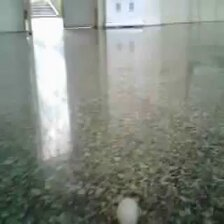w: (114, 197, 142, 224)
